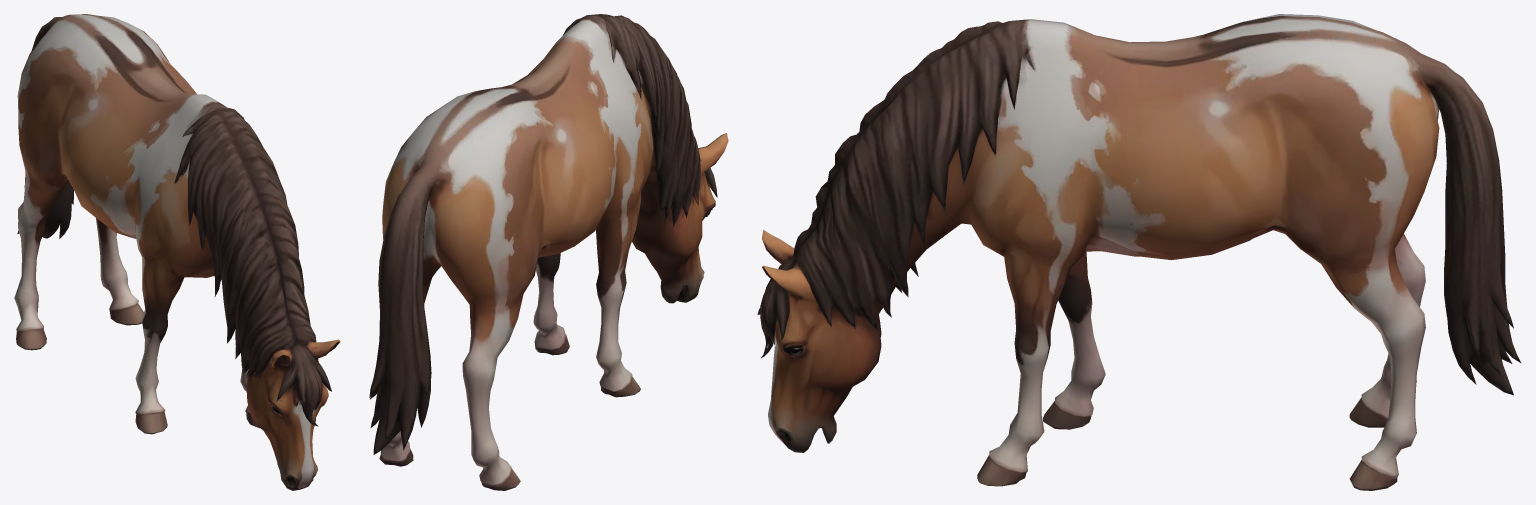
The model's file is cavalinho.glb.
3 views of the same model, side by side, from view 1: azimuth 30°, elevation 25°; view 2: azimuth 150°, elevation 25°; view 3: azimuth 270°, elevation 25° (orthographic). The views are drawn at different scales.
Parts seen in each view (by area): view 1: Cavalinho de sítio; view 2: Cavalinho de sítio; view 3: Cavalinho de sítio.
Part boxes in pixels (box(x1,y1,x2,y2)): Cavalinho de sítio: box(14, 14, 340, 490); Cavalinho de sítio: box(369, 14, 728, 490); Cavalinho de sítio: box(757, 14, 1521, 490).
Size of the model in its own units: 0.2793 by 0.6191 by 0.998.
Materials: 1 (1 with a texture image).
